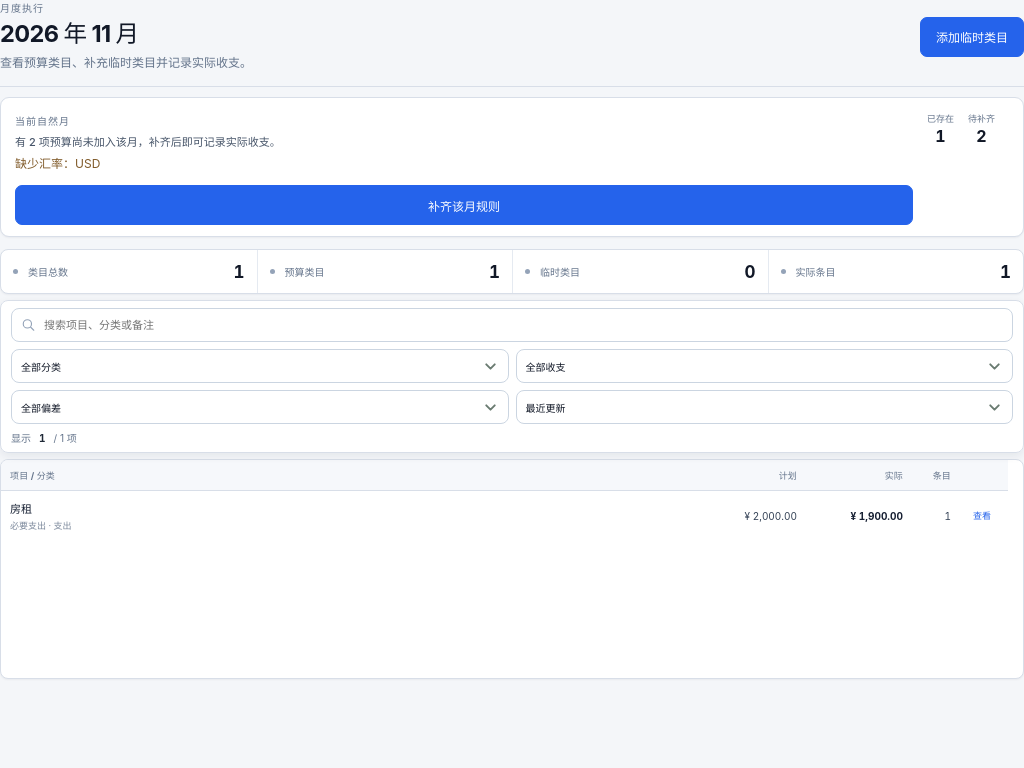
Test: supplementing monthly rules › explains missing budgets, confirms supplementation and preserves existing actuals
This screenshot has width=1024, height=768.
Expected: the text "有 2 项预算尚未加入该月，补齐后即可记录实际收支。" is shown, [15,135,281,149]
Click the button "补齐该月规则" at (464,205), box [15,185,913,225]
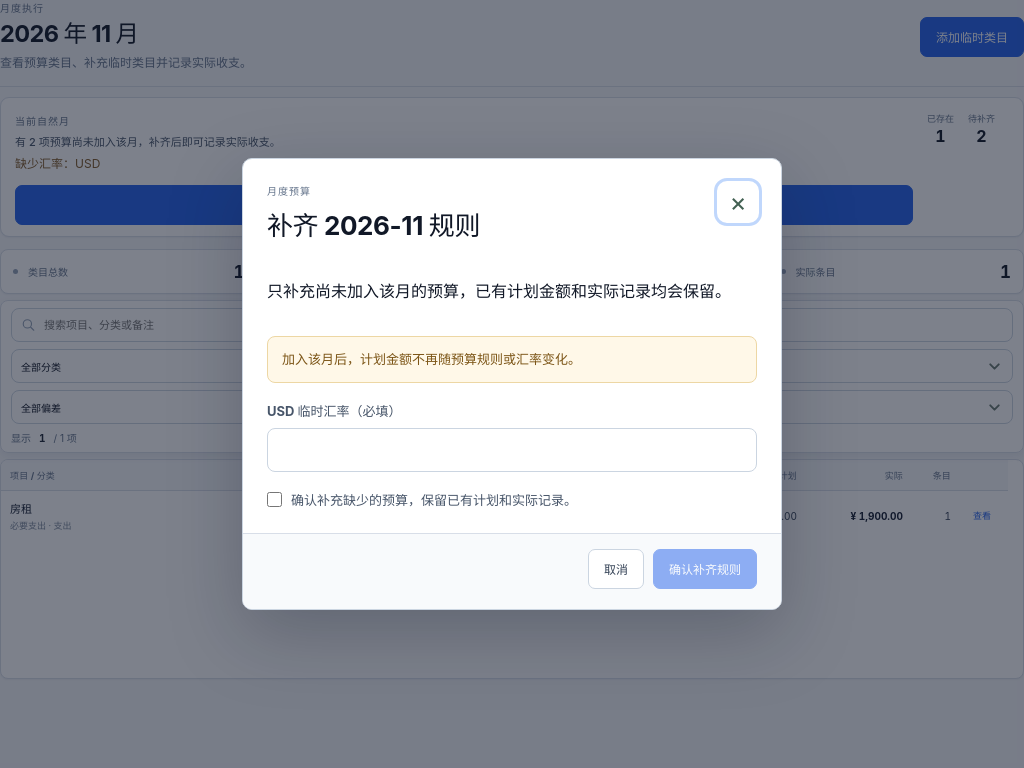
Expected: the dialog "补齐 2026-11 规则" does not show "初始化", [242,158,782,610]
Result: the dialog "补齐 2026-11 规则" shows "已有计划金额和实际记录均会保留" at [267,281,731,301]
Result: the button "确认补齐规则" is disabled at [653,549,757,589]
Click the checkbox labelled "确认补充缺少的预算，保留已有计划和实际记录。" at (274,499), box [267,492,282,507]
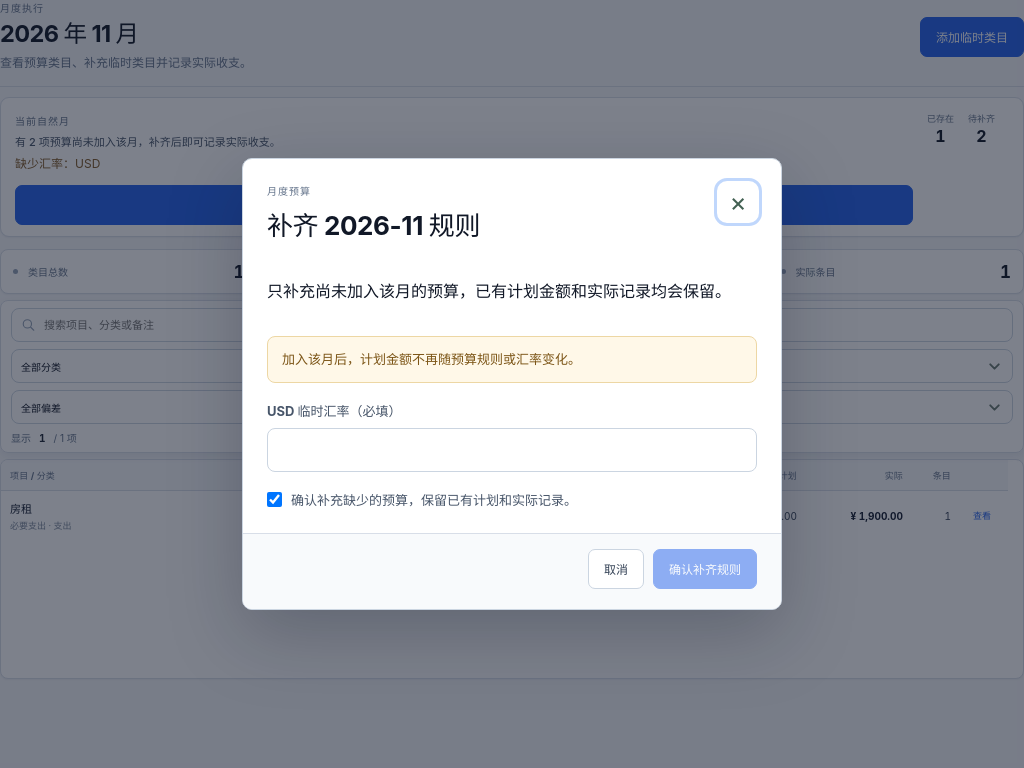
Result: the button "确认补齐规则" is disabled at [653,549,757,589]
Type "7.1" into the field labelled "USD 临时汇率（必填）" at (512,450), box [267,428,757,472]
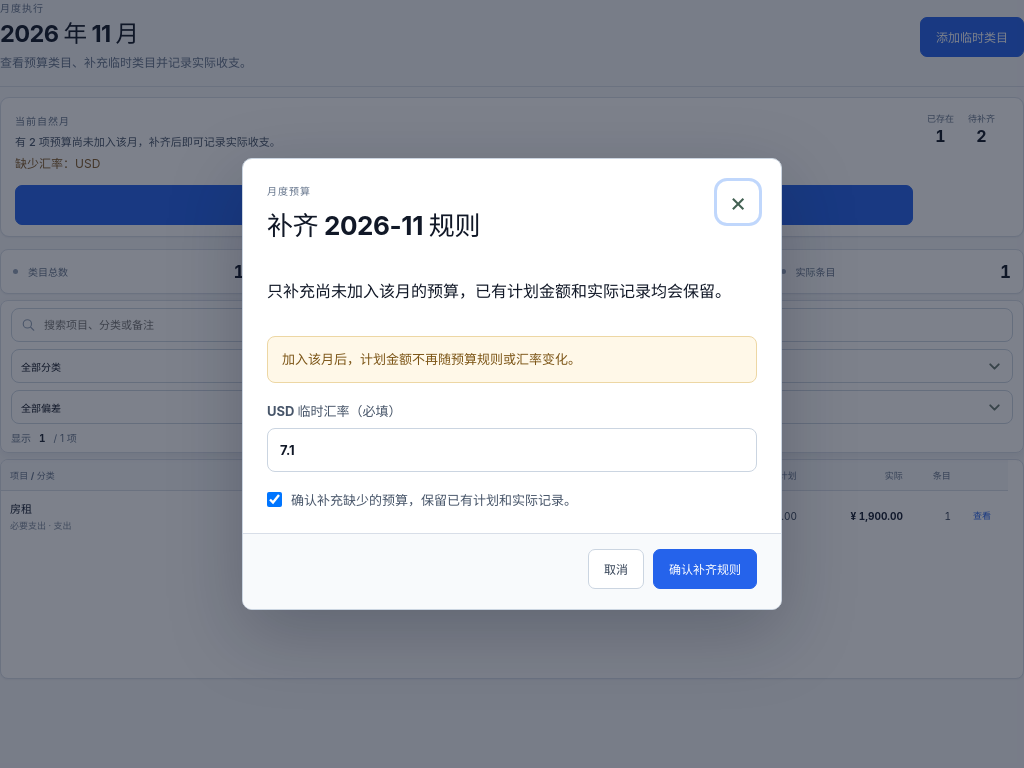
Click the button "确认补齐规则" at (705,569), box [653,549,757,589]
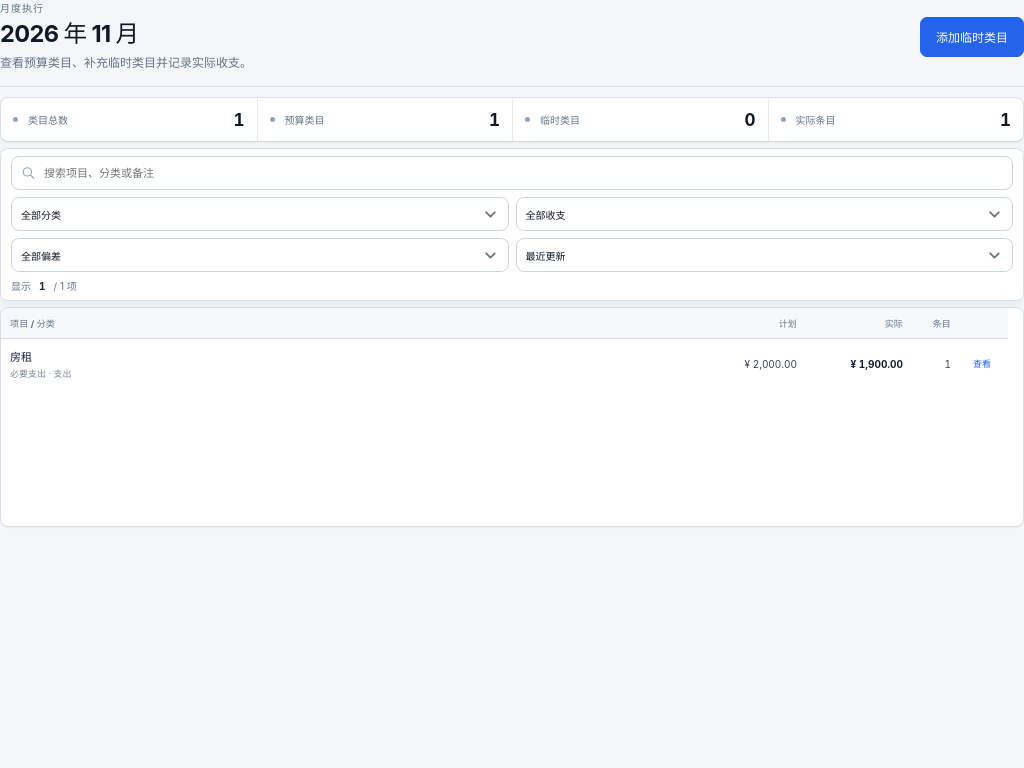
Result: the dialog is gone
Result: the text "项预算尚未加入" is gone
